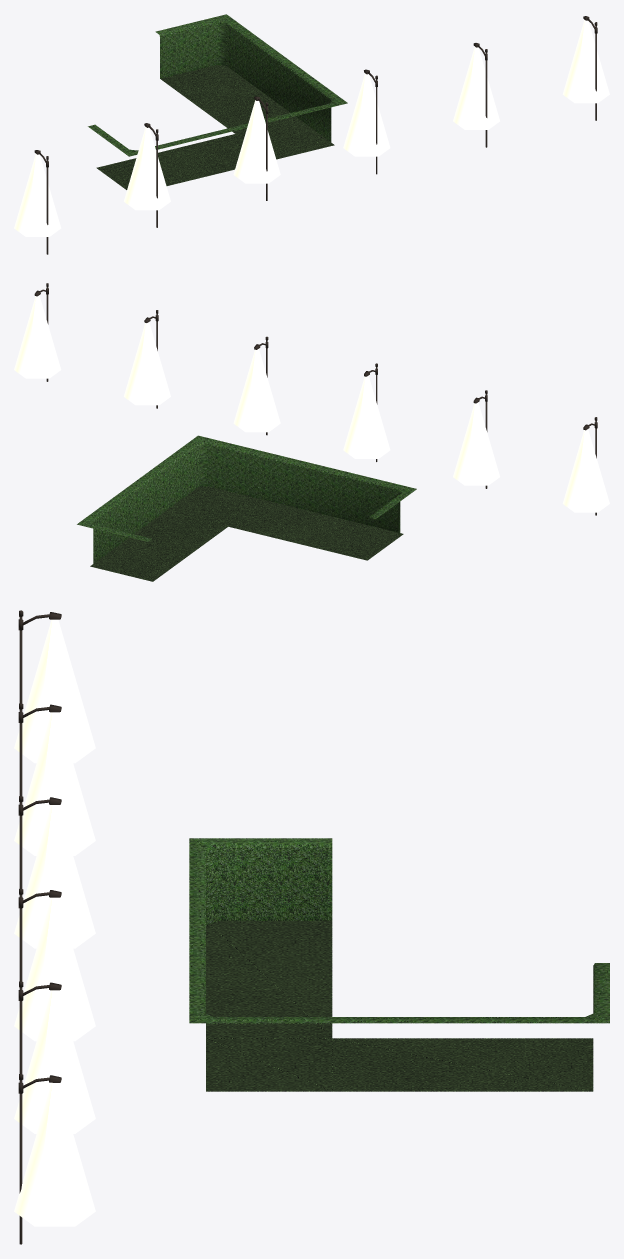
The model's file is Outside.glb.
3 views of the same model, one above another, from view 1: azimuth 30°, elevation 25°; view 2: azimuth 150°, elevation 25°; view 3: azimuth 270°, elevation 25° (orthographic). The views are drawn at different scales.
Parts seen in each view (by area): view 1: StreetLight, Hedge, Grass; view 2: Hedge, StreetLight, Grass; view 3: StreetLight, Grass, Hedge.
Boxes of the visible parts, x1=… form: StreetLight: x1=14, y1=16, x2=609, y2=254; Hedge: x1=88, y1=14, x2=347, y2=156; Grass: x1=96, y1=65, x2=334, y2=189; Hedge: x1=77, y1=435, x2=416, y2=563; StreetLight: x1=14, y1=283, x2=609, y2=515; Grass: x1=90, y1=486, x2=403, y2=581; StreetLight: x1=14, y1=610, x2=95, y2=1244; Grass: x1=206, y1=920, x2=593, y2=1091; Hedge: x1=189, y1=838, x2=609, y2=1023.
Bounding box in the file's own units: 34.69 × 6.31 × 17.71.
4 materials, 3 textured.
